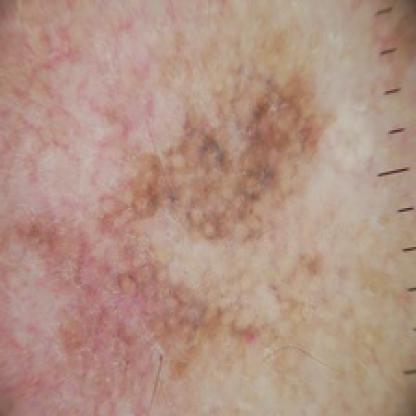malignant: (41, 22, 342, 358)
